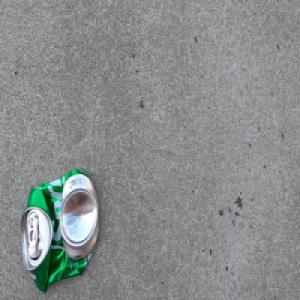SodaCan: (19, 166, 100, 293)
